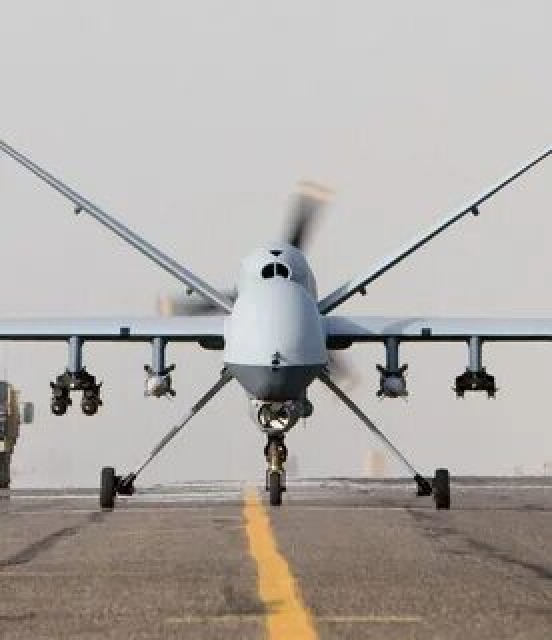military drone: (0, 138, 552, 512)
